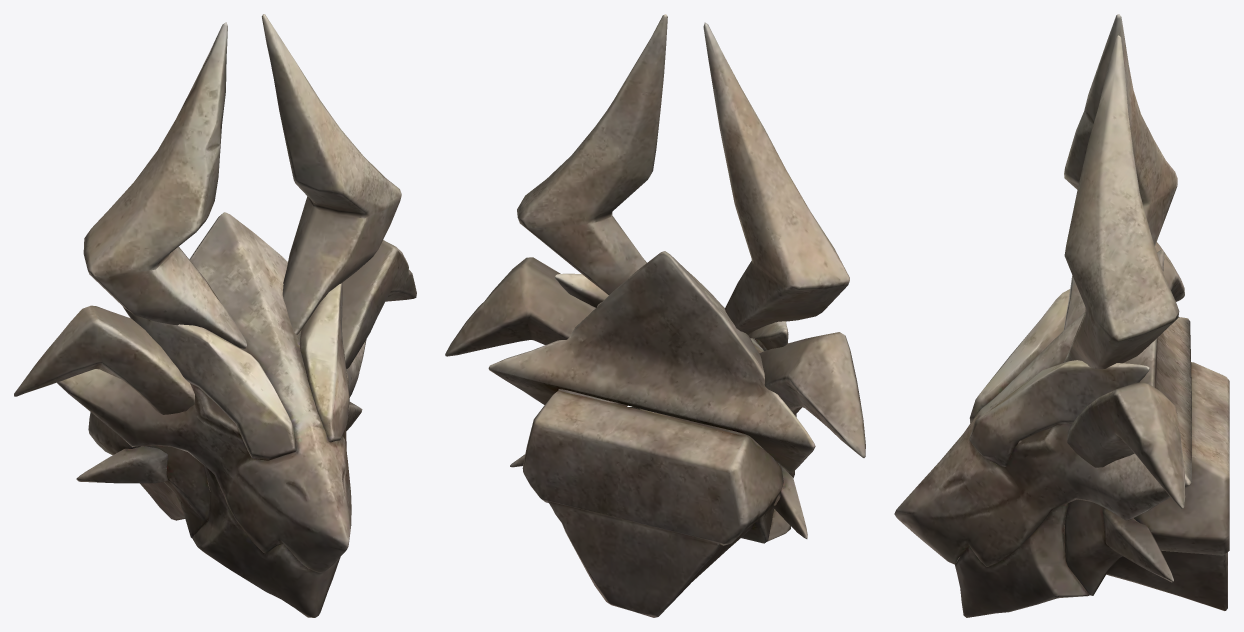
3 views of the same model, side by side, from view 1: azimuth 30°, elevation 25°; view 2: azimuth 150°, elevation 25°; view 3: azimuth 270°, elevation 25° (orthographic). The views are drawn at different scales.
Parts seen in each view (by area): view 1: SM_Dragonkin_Wall_Face_01v2_LOD0; view 2: SM_Dragonkin_Wall_Face_01v2_LOD0; view 3: SM_Dragonkin_Wall_Face_01v2_LOD0.
Part boxes in pixels (x1,y1,x2,y2): SM_Dragonkin_Wall_Face_01v2_LOD0: (14,14,416,617); SM_Dragonkin_Wall_Face_01v2_LOD0: (445,14,865,617); SM_Dragonkin_Wall_Face_01v2_LOD0: (894,14,1229,617).
Bounding box in the file's own units: 2.84 × 3.71 × 1.9.
1 material, 1 textured.
